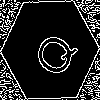Q: (25, 25, 80, 82)
